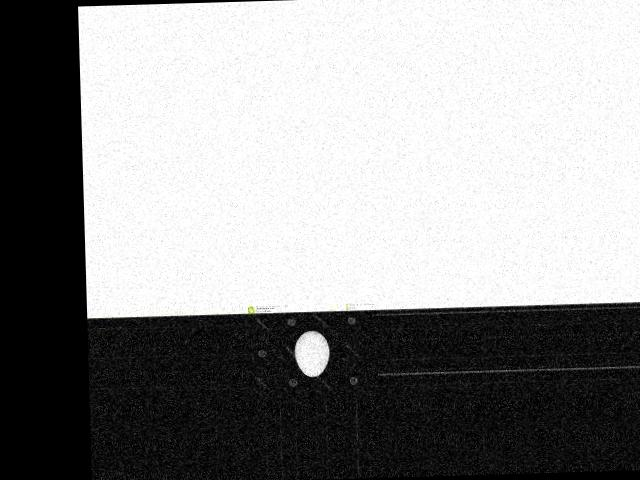egg: (295, 330, 331, 377)
